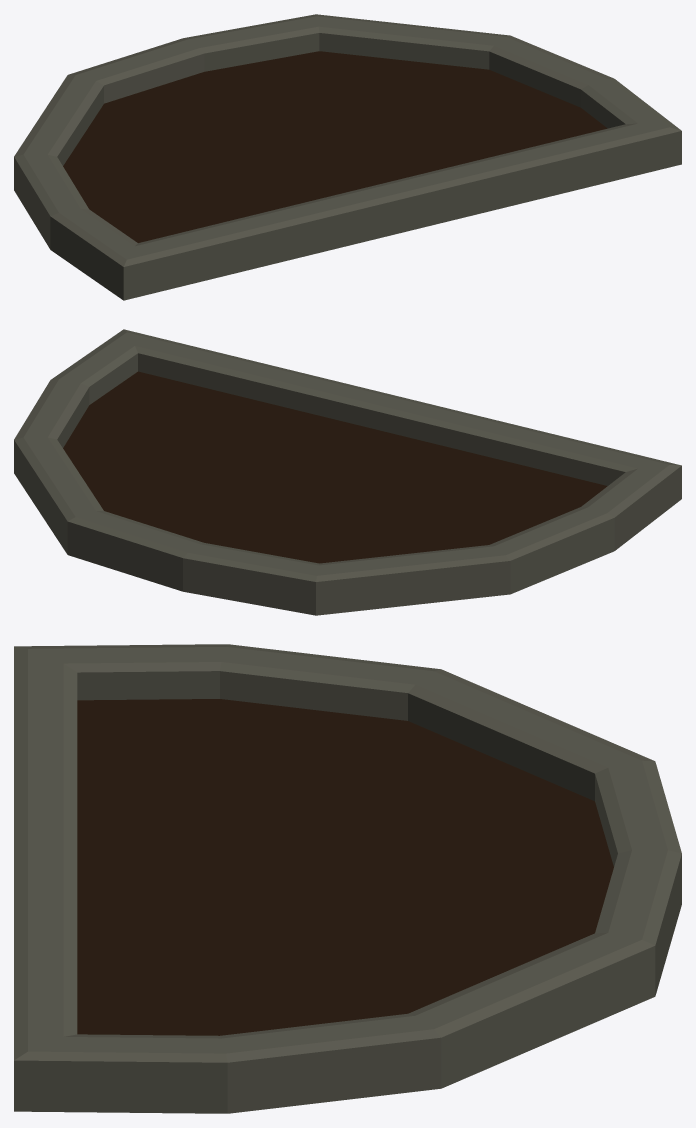
File: FlowerBed6.glb
The picture shows the model from 3 angles, top to bottom: view 1: azimuth 30°, elevation 25°; view 2: azimuth 150°, elevation 25°; view 3: azimuth 270°, elevation 25°; orthographic projection. The views are drawn at different scales.
Parts seen in each view (by area): view 1: FlowerBed6; view 2: FlowerBed6; view 3: FlowerBed6.
Boxes of the visible parts, box(x1,y1,x2,y2) form: FlowerBed6: box(14, 14, 681, 300); FlowerBed6: box(14, 329, 681, 615); FlowerBed6: box(14, 644, 681, 1113).
Bounding box in the file's own units: 5.16 × 0.3121 × 3.48.
